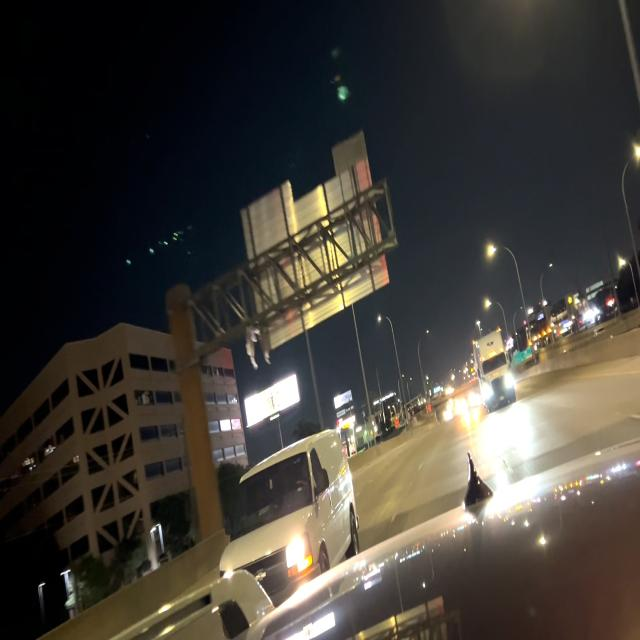back-of-sign: (239, 129, 391, 355)
